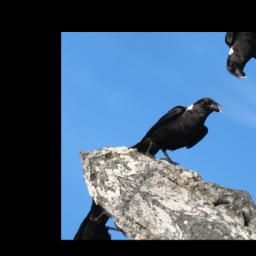Crow: (127, 75, 228, 180)
